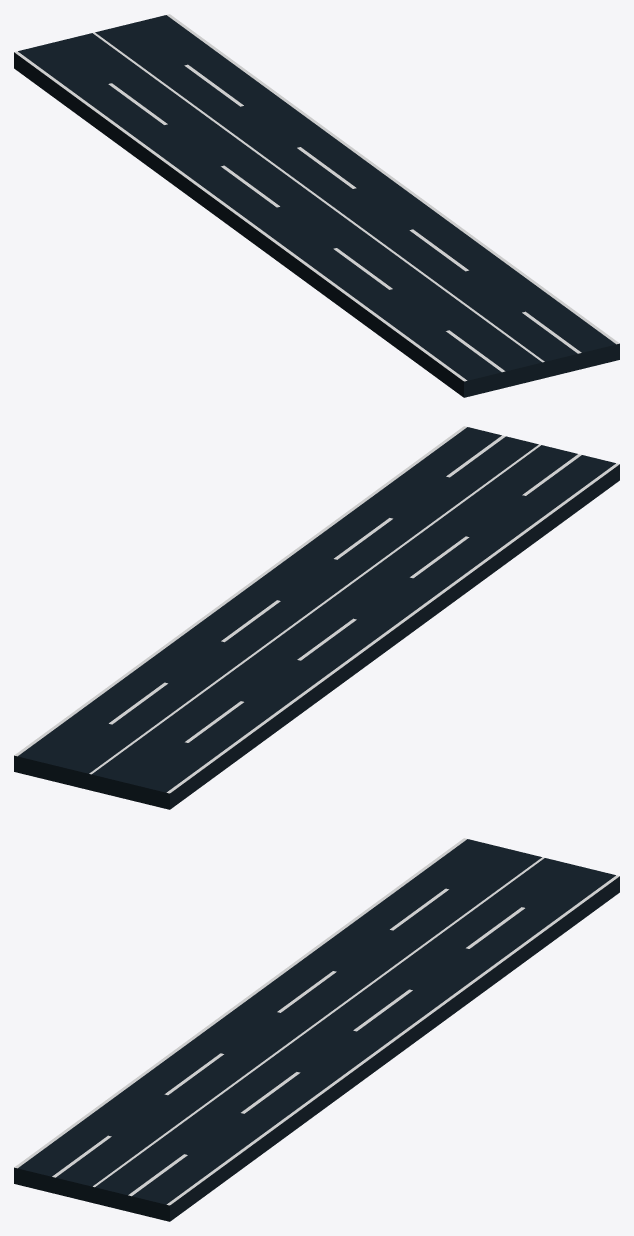
Rendered from Road.fbx.
The picture shows the model from 3 angles, top to bottom: view 1: azimuth 30°, elevation 25°; view 2: azimuth 150°, elevation 25°; view 3: azimuth 330°, elevation 25°; orthographic projection.
Visible parts, largest first — view 1: Cube; view 2: Cube; view 3: Cube.
Part boxes in pixels (x1,y1,x2,y2): Cube: [14, 14, 619, 397]; Cube: [14, 426, 619, 809]; Cube: [14, 838, 619, 1221].
Bounding box in the file's own units: 2000 × 200 × 10000.
